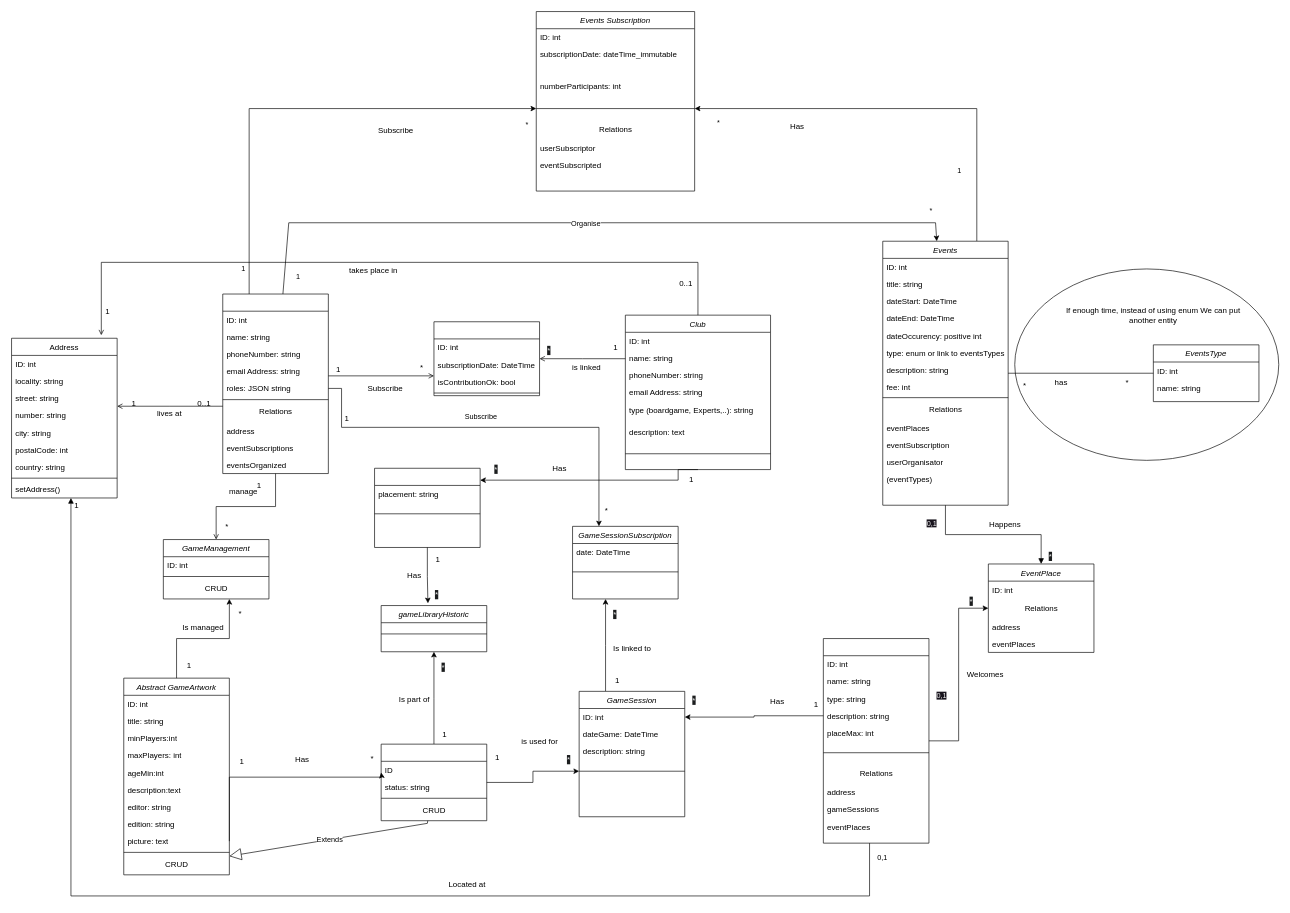
This 1290x913 diagram has some shape labels left out. The box of each missing label's shape, as (x1, y1, x2, y2) in pixels:
Boardgame: (380, 743, 487, 821)
Club Subscription: (433, 321, 540, 396)
Club's game Library: (374, 468, 480, 547)
GamingPlace: (823, 638, 929, 843)
User: (222, 293, 328, 474)
